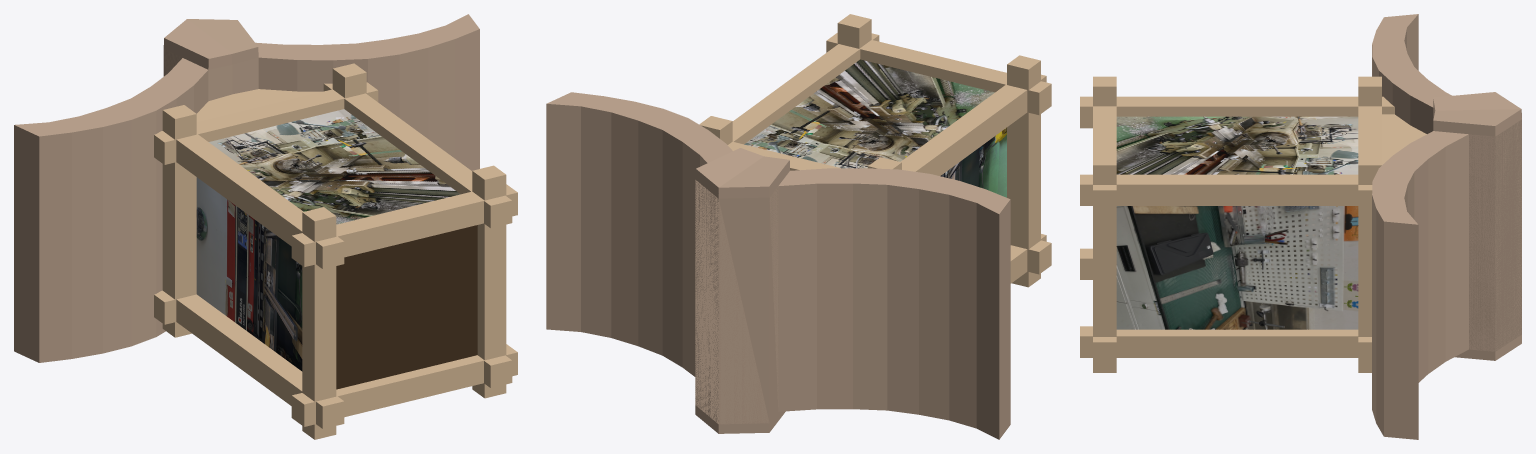
The model's file is 生産_第一実習室_よこ.glb.
The picture shows the model from 3 angles, left to right: view 1: azimuth 30°, elevation 25°; view 2: azimuth 150°, elevation 25°; view 3: azimuth 270°, elevation 25°; orthographic projection. The views are drawn at different scales.
Parts seen in each view (by area): view 1: 平面; view 2: 平面; view 3: 平面.
Boxes of the visible parts, <box> form: 平面: <box>14,14,517,439</box>; 平面: <box>546,14,1051,439</box>; 平面: <box>1080,14,1521,439</box>.
Bounding box in the file's own units: 7.86 × 4.08 × 6.96.
Materials: 8 (4 with a texture image).
